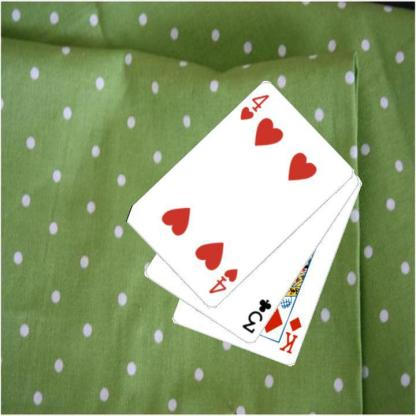3C: (239, 296, 273, 336)
4H: (206, 266, 239, 296), (238, 92, 271, 122)
KD: (277, 314, 303, 356)
